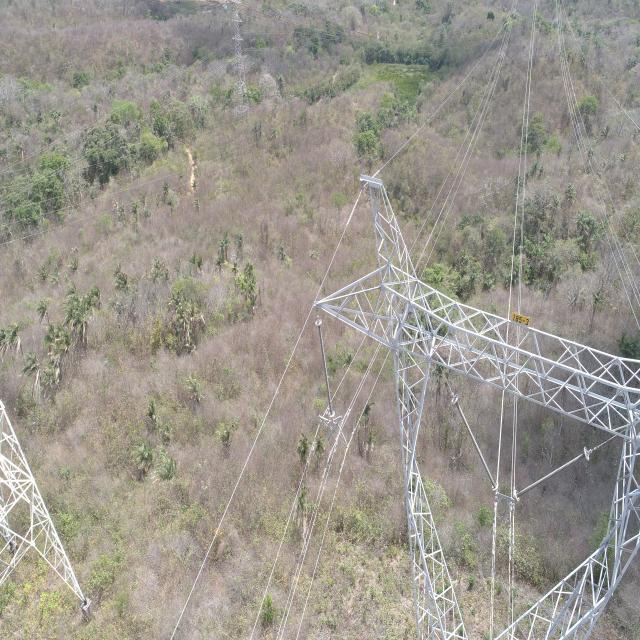杆塔: (315, 171, 640, 639), (0, 386, 96, 610)
正常绝缘子: (448, 393, 502, 500), (512, 444, 592, 506), (313, 313, 340, 424)
